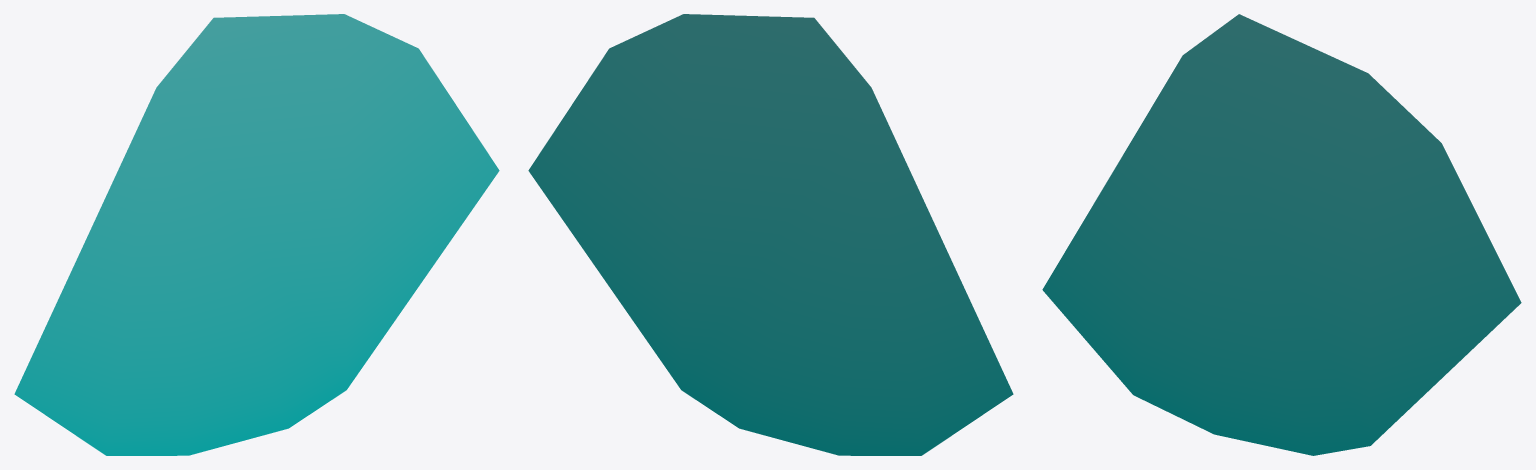
File: Sage_ve3gbfoja_Mid_ve3gbfoja_VarD_LOD3.fbx
3 renders of one model, left to right at view 1: azimuth 30°, elevation 25°; view 2: azimuth 150°, elevation 25°; view 3: azimuth 330°, elevation 25°, orthographic.
Parts seen in each view (by area): view 1: _4cuc_VarD_LOD5; view 2: _4cuc_VarD_LOD5; view 3: _4cuc_VarD_LOD5.
Part boxes in pixels (box(x1,y1,x2,y2)): _4cuc_VarD_LOD5: box(14, 14, 499, 455); _4cuc_VarD_LOD5: box(528, 14, 1013, 455); _4cuc_VarD_LOD5: box(1042, 14, 1521, 455).
Bounding box in the file's own units: 70.18 × 59.68 × 0.
